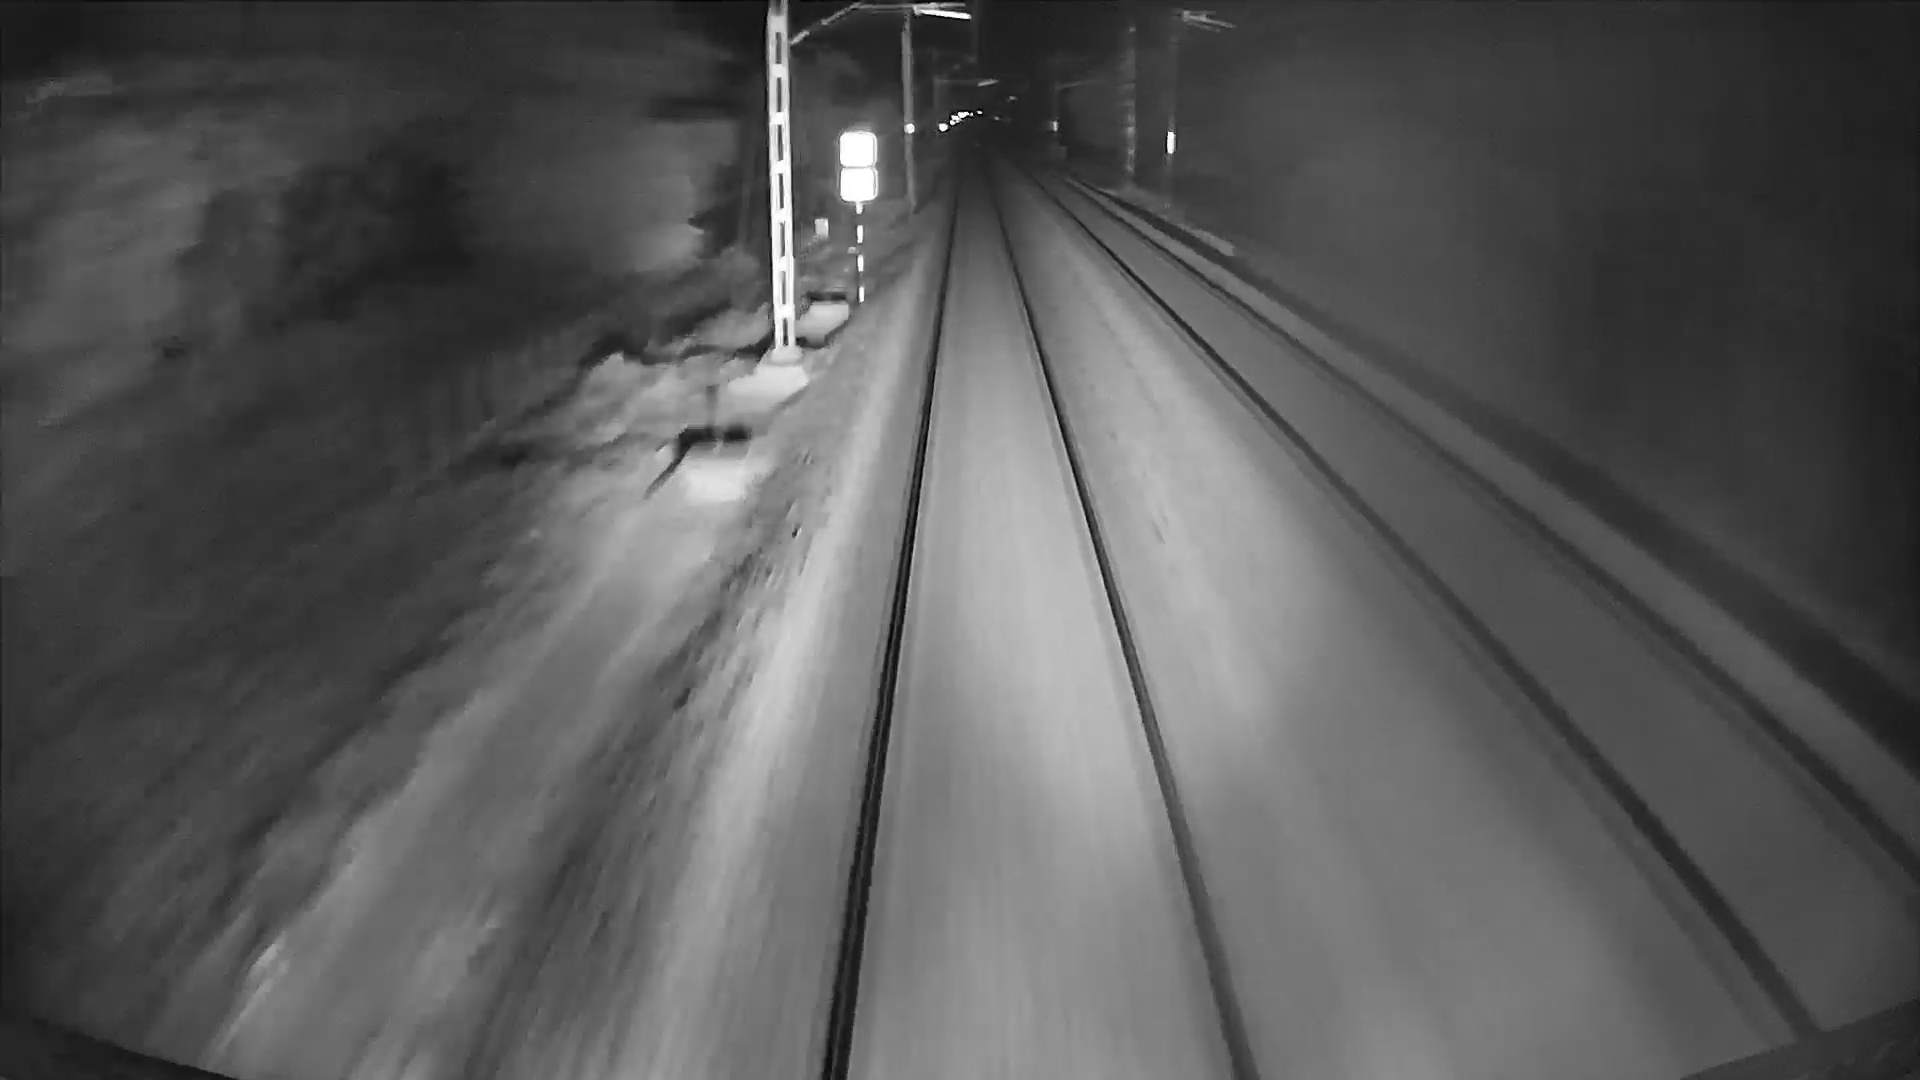track1: (839, 161, 1247, 1063)
track2: (1035, 175, 1908, 989)
